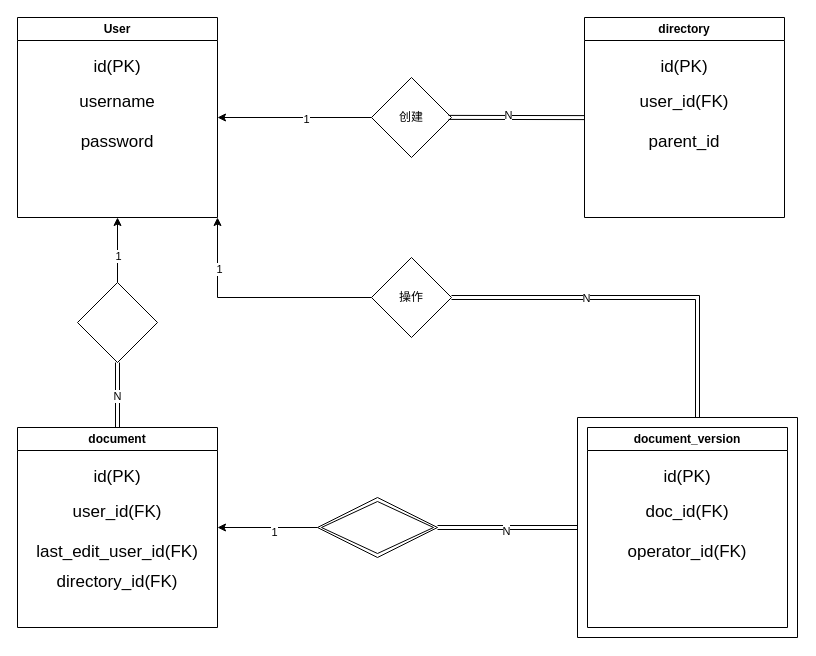
Some shapes in this 816 by 656 pixel diagram are drawn without their labels. Here are the shapes that lost their labels. From the top down, the centre of each, then its label:
At [117,322]: "创作".
At [377,527]: "生成".
